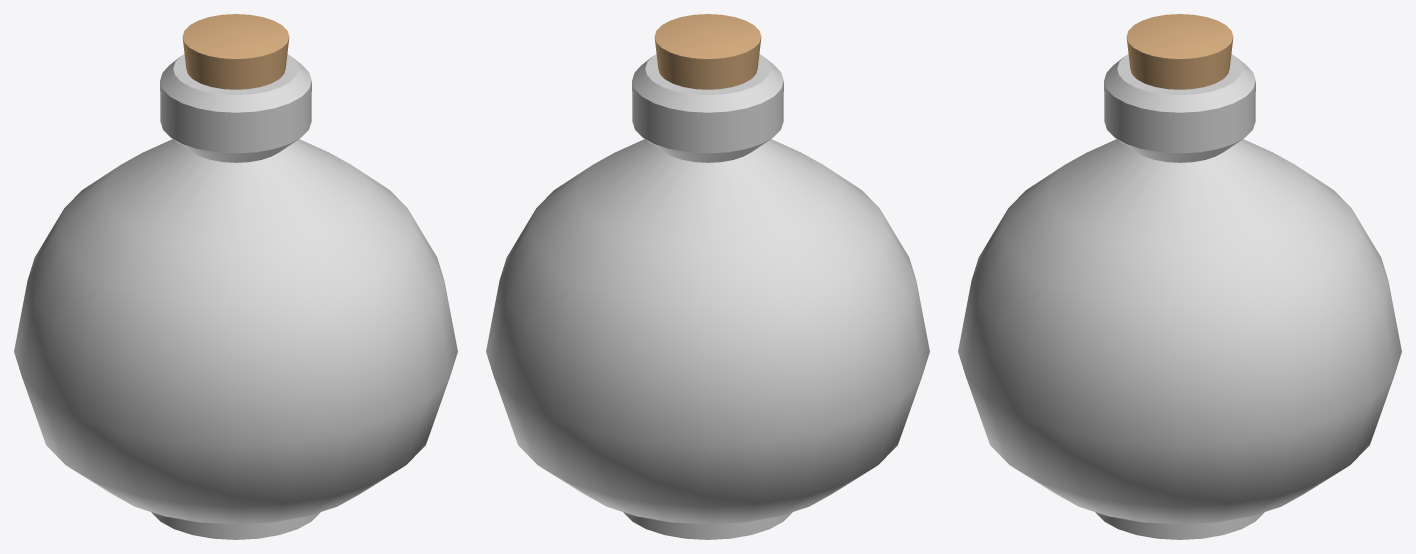
File: potionLarge_green.fbx
The picture shows the model from 3 angles, left to right: view 1: azimuth 30°, elevation 25°; view 2: azimuth 150°, elevation 25°; view 3: azimuth 270°, elevation 25°; orthographic projection.
Parts seen in each view (by area): view 1: potionLarge_green; view 2: potionLarge_green; view 3: potionLarge_green.
Boxes of the visible parts, x1=… form: potionLarge_green: x1=14, y1=14, x2=457, y2=539; potionLarge_green: x1=486, y1=14, x2=929, y2=539; potionLarge_green: x1=958, y1=14, x2=1401, y2=539.
Size of the model in its own units: 100 by 118 by 100.
